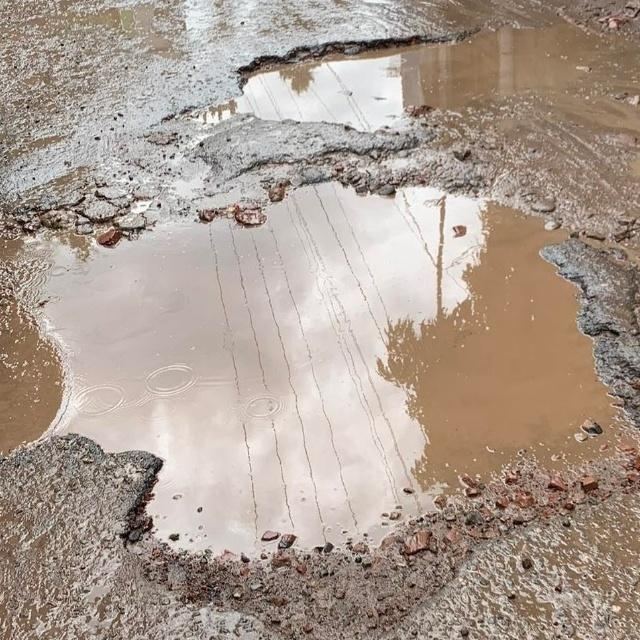Pothole: (3, 212, 610, 530), (261, 30, 548, 122)
